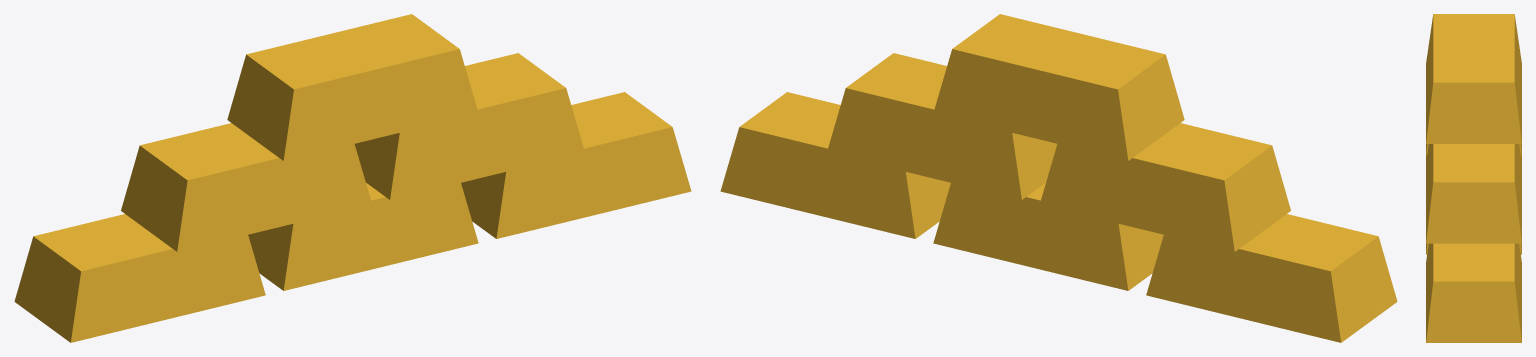
Rendered from SM_Gold_Bars.obj.
3 views of the same model, side by side, from view 1: azimuth 30°, elevation 25°; view 2: azimuth 150°, elevation 25°; view 3: azimuth 270°, elevation 25° (orthographic). The views are drawn at different scales.
Parts seen in each view (by area): view 1: SM_Gold_Bars; view 2: SM_Gold_Bars; view 3: SM_Gold_Bars.
Boxes of the visible parts, x1=… form: SM_Gold_Bars: x1=14, y1=14, x2=691, y2=342; SM_Gold_Bars: x1=720, y1=14, x2=1397, y2=342; SM_Gold_Bars: x1=1426, y1=14, x2=1521, y2=342.
Bounding box in the file's own units: 0.7 × 0.21 × 0.11.
